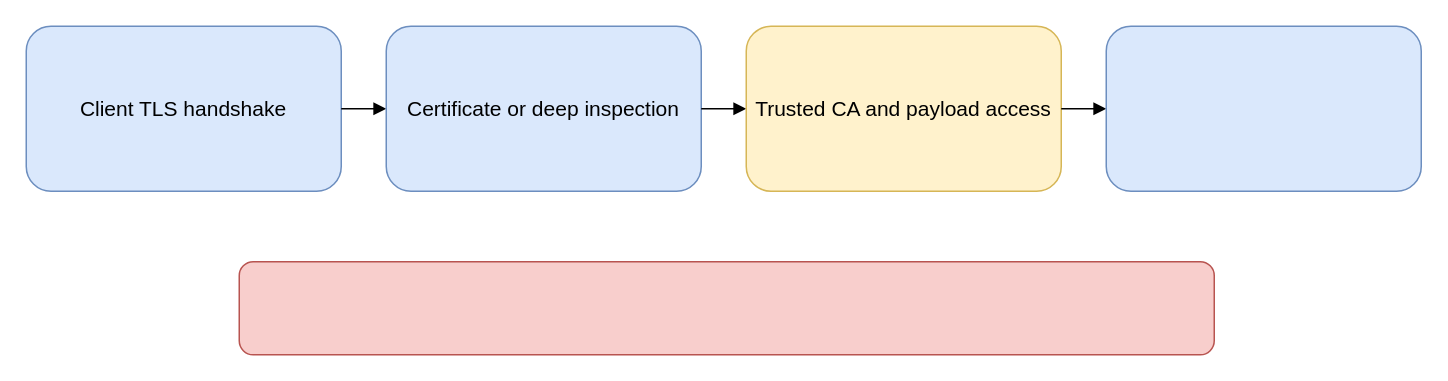
The diagram is 1448 pixels wide and 381 high, and some of its shapes have lost their labels. Here are the shapes that lost their labels. From the top down, the centre of each, then its label:
the point at 1263,108: Security profiles/re-encrypt
the point at 726,307: Failure boundary: Certificate inspection cannot read encrypted HTTP payload
